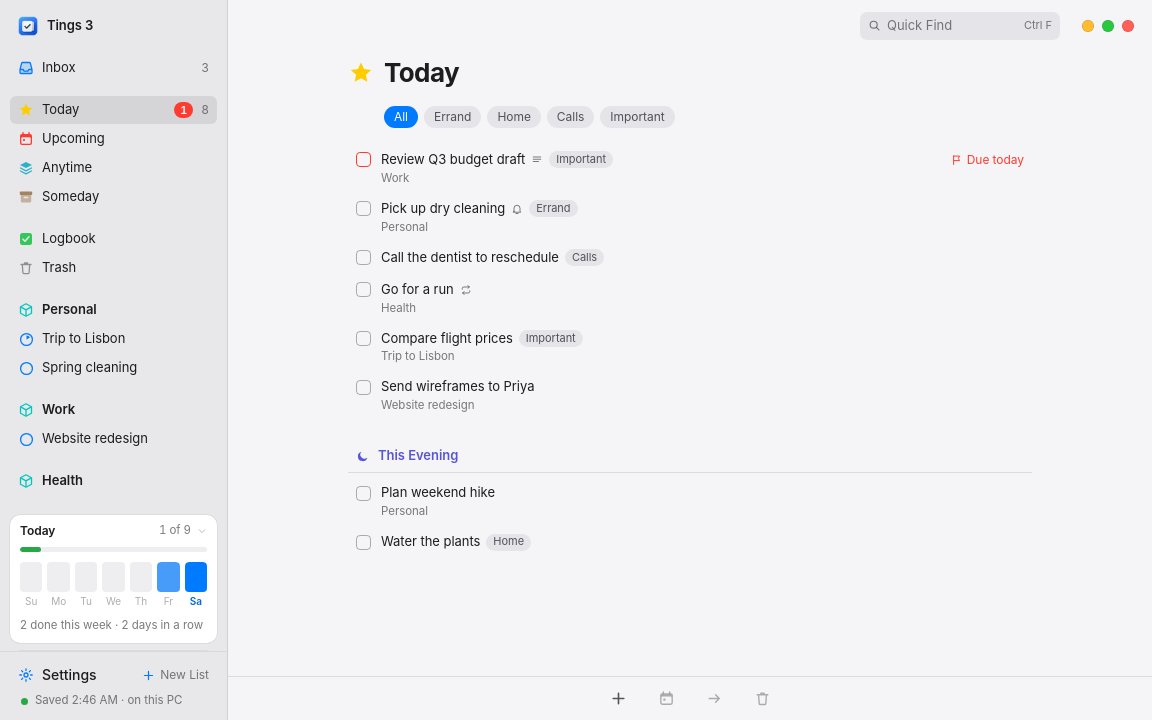
Scenario: App › navigates to a project and shows its headings
The image size is (1152, 720).
Expected: the heading "Today" is shown, [384,58,459,88]
Click the button "Trip to Lisbon": (114,339) [10,325,217,353]
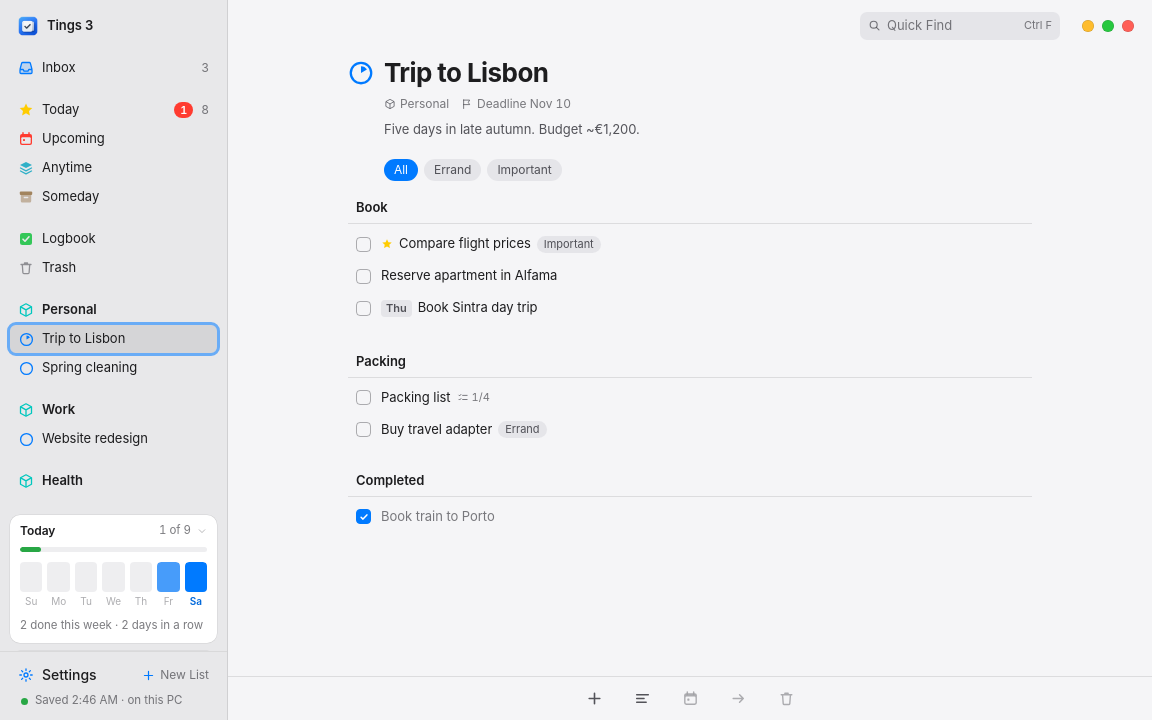
Now the field showing "Trip to Lisbon" is shown, box [384,58,1032,88]
Now the text "Packing" is shown, box [356,353,406,371]
Now the text "Reserve apartment in Alfama" is shown, box [381,267,557,285]
